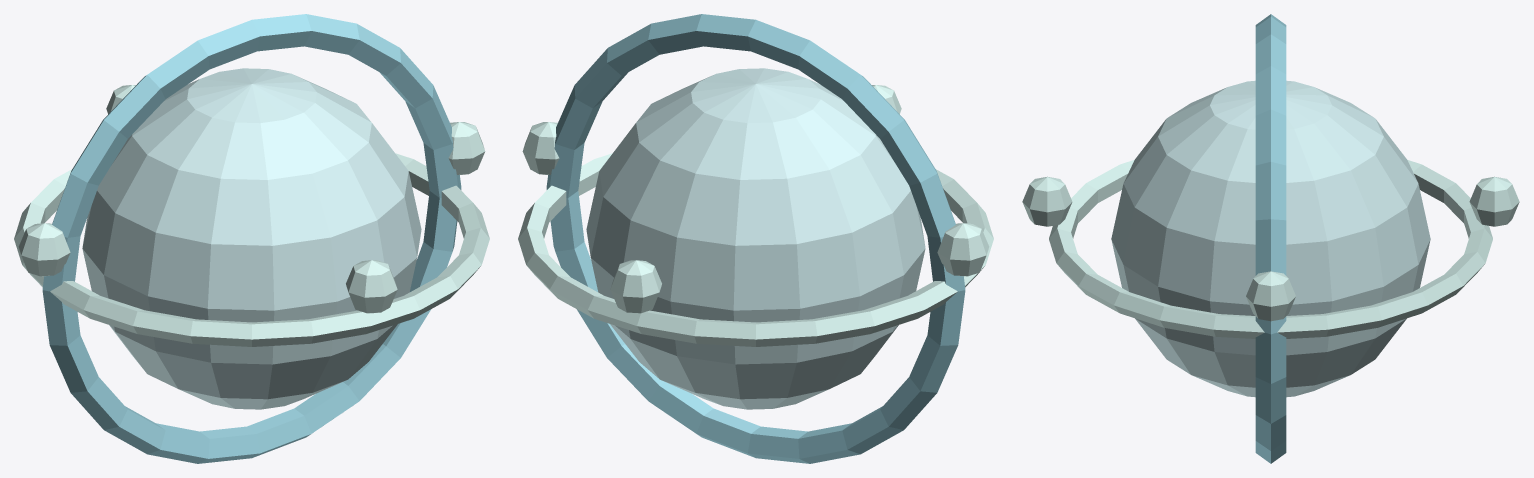
The model's file is orbe_azul.glb.
3 renders of one model, left to right at view 1: azimuth 30°, elevation 25°; view 2: azimuth 150°, elevation 25°; view 3: azimuth 270°, elevation 25°, orthographic. The views are drawn at different scales.
Visible parts, largest first — view 1: orbe_azul; view 2: orbe_azul; view 3: orbe_azul.
Part boxes in pixels (<box>): orbe_azul: <box>14,14,489,463</box>; orbe_azul: <box>518,14,993,463</box>; orbe_azul: <box>1022,14,1519,463</box>.
Bounding box in the file's own units: 1.09 × 0.99 × 1.09.
